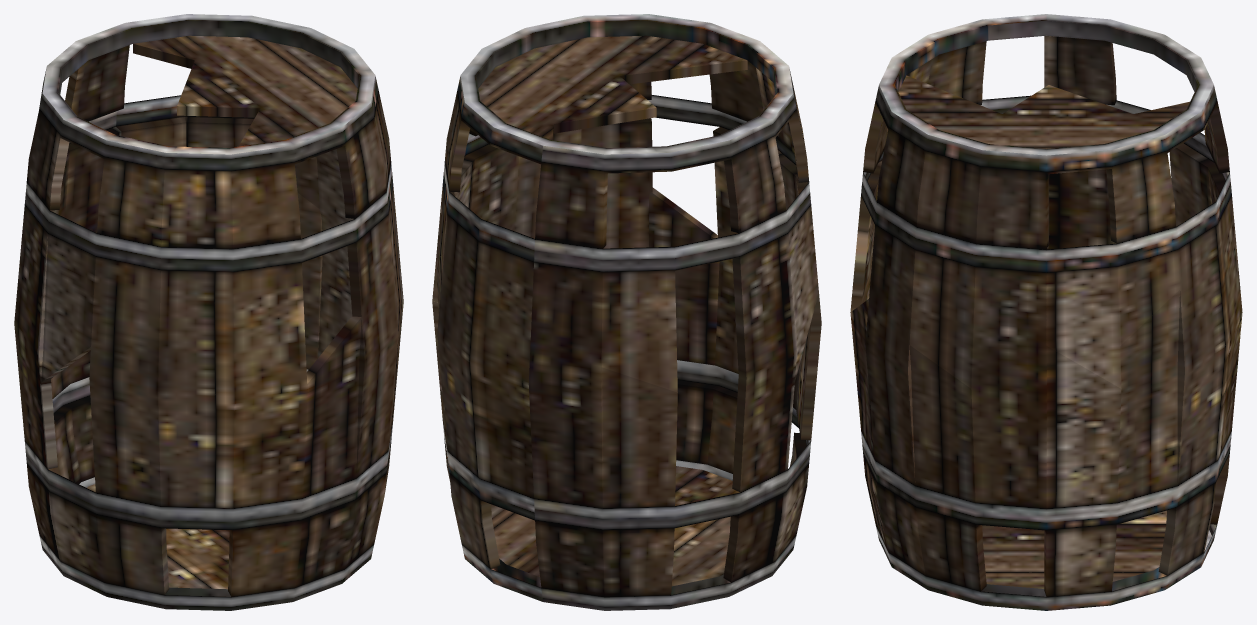
The model's file is barrel_cracked.fbx.
3 renders of one model, left to right at view 1: azimuth 30°, elevation 25°; view 2: azimuth 150°, elevation 25°; view 3: azimuth 270°, elevation 25°, orthographic.
Parts seen in each view (by area): view 1: BarrelCracked.002, BarrelCracked.019, BarrelCracked.020, BarrelCracked.018, BarrelCracked.058, BarrelCracked.003, BarrelCracked.006, BarrelCracked, BarrelCracked.004, BarrelCracked.053, BarrelCracked.016, BarrelCracked.017 (+23 smaller); view 2: BarrelCracked.002, BarrelCracked.013, BarrelCracked.058, BarrelCracked.016, BarrelCracked.012, BarrelCracked, BarrelCracked.003, BarrelCracked.004, BarrelCracked.056, BarrelCracked.014, BarrelCracked.011, BarrelCracked.053 (+21 smaller); view 3: BarrelCracked.002, BarrelCracked.008, BarrelCracked, BarrelCracked.058, BarrelCracked.011, BarrelCracked.003, BarrelCracked.055, BarrelCracked.054, BarrelCracked.006, BarrelCracked.004, BarrelCracked.007, BarrelCracked.009 (+21 smaller).
Boxes of the visible parts, x1,y1,x2,y2 form: BarrelCracked.002: (39,14,378,173); BarrelCracked.019: (158,271,234,507); BarrelCracked.020: (233,263,307,507); BarrelCracked.018: (89,257,160,505); BarrelCracked.058: (133,35,357,146); BarrelCracked.003: (24,95,393,272); BarrelCracked.006: (347,215,398,477); BarrelCracked: (39,477,374,610); BarrelCracked.004: (24,369,392,530); BarrelCracked.053: (302,316,361,497); BarrelCracked.016: (14,205,57,469); BarrelCracked.017: (41,234,95,382); BarrelCracked.002: (457,14,796,173); BarrelCracked.013: (528,263,602,507); BarrelCracked.058: (478,35,747,139); BarrelCracked.016: (732,234,796,492); BarrelCracked.012: (471,243,533,497); BarrelCracked: (461,460,796,610); BarrelCracked.003: (442,95,811,272); BarrelCracked.004: (443,360,811,530); BarrelCracked.056: (601,367,677,507); BarrelCracked.014: (601,271,677,392); BarrelCracked.011: (437,215,479,477); BarrelCracked.053: (649,187,719,365); BarrelCracked.002: (875,14,1217,174); BarrelCracked.008: (971,267,1047,508); BarrelCracked: (876,510,1217,610); BarrelCracked.058: (898,75,1189,148); BarrelCracked.011: (1177,225,1227,484); BarrelCracked.003: (861,95,1231,273); BarrelCracked.055: (1117,290,1179,502); BarrelCracked.054: (1046,346,1121,508); BarrelCracked.006: (865,225,915,484); BarrelCracked.004: (861,430,1231,530); BarrelCracked.007: (909,345,975,502); BarrelCracked.009: (1046,267,1121,388).
Bounding box in the file's own units: 0.9363 × 1.2 × 0.9363.
